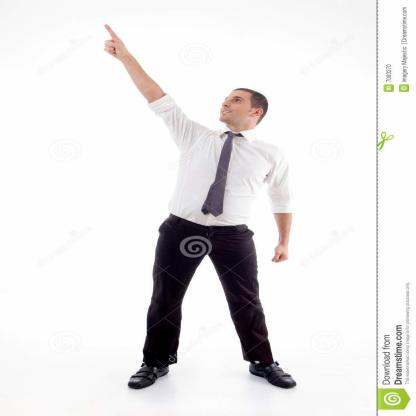Up: (96, 17, 134, 60)
